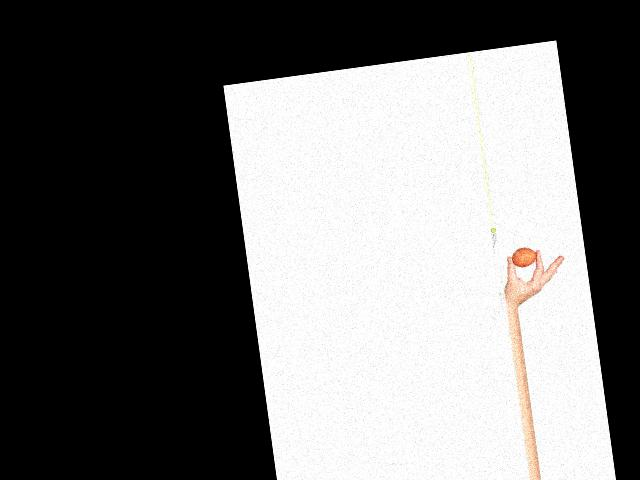egg: (510, 246, 537, 269)
